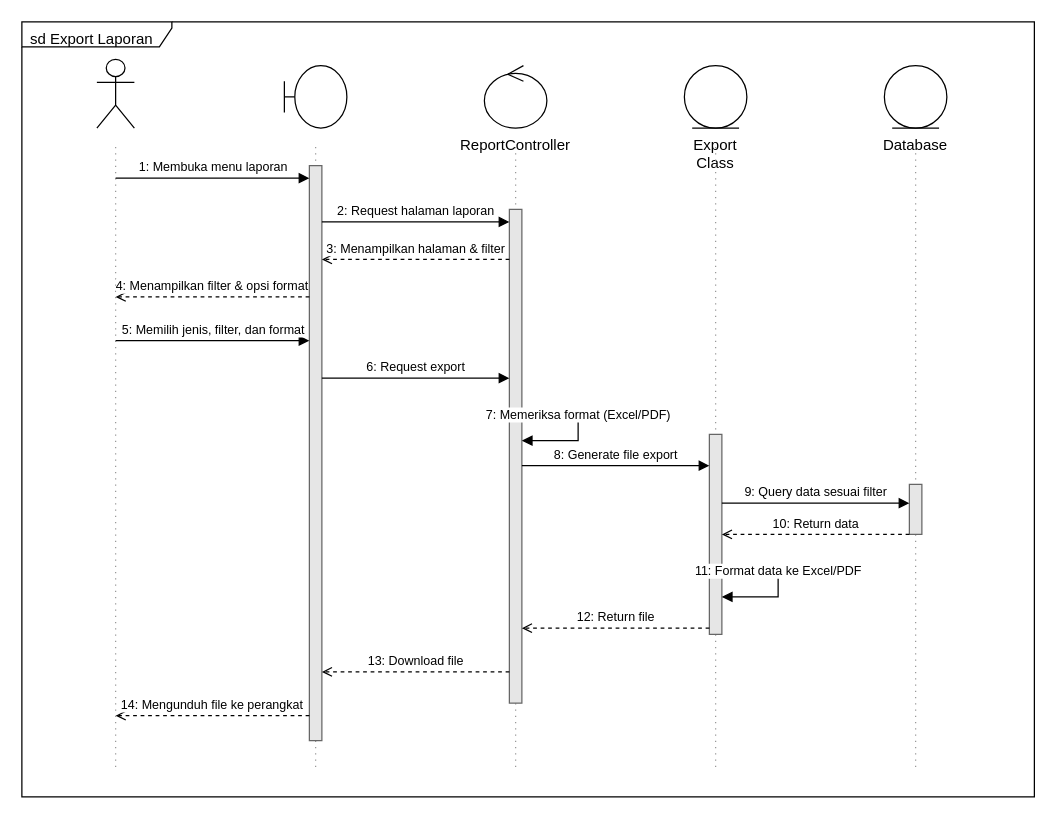
Some shapes in this 1056 by 819 pixel diagram are drawn without their labels. Each missing label, with the centre of its shape:
"Halaman Laporan" goes at point (315, 96).
"Pengguna" goes at point (115, 93).
